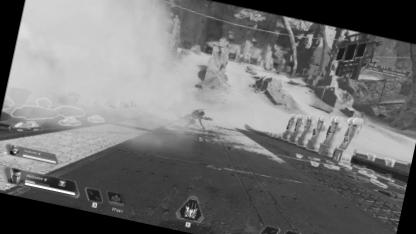Target: (177, 103, 206, 130)
